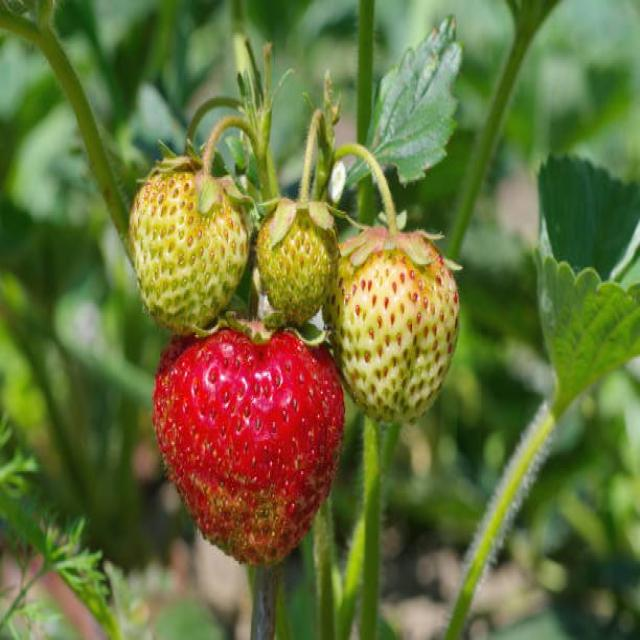Healthy Fruit: (153, 324, 344, 565), (324, 240, 460, 426), (129, 173, 250, 335)
